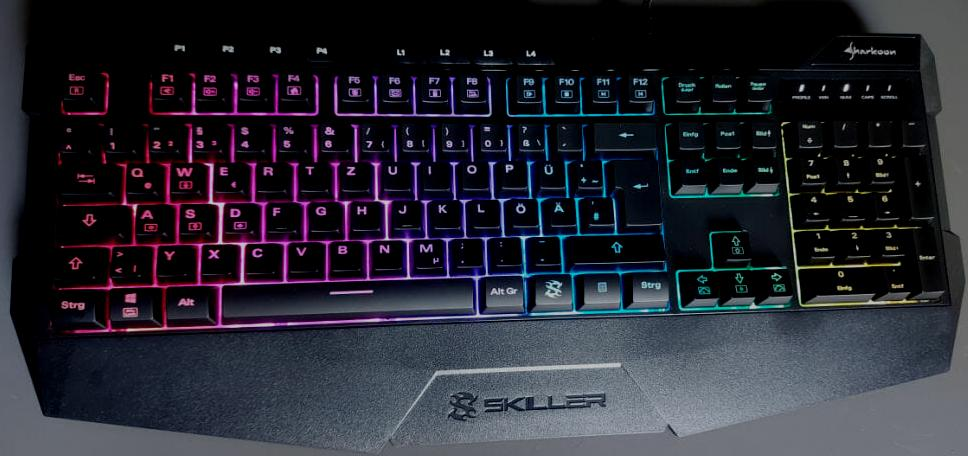0: (474, 118, 506, 152)
1: (98, 118, 134, 151)
2: (144, 117, 178, 154)
3: (187, 116, 221, 154)
4: (230, 116, 263, 152)
5: (272, 115, 306, 152)
6: (314, 118, 348, 151)
7: (356, 116, 387, 153)
8: (395, 116, 427, 153)
9: (435, 116, 467, 153)
a: (131, 200, 167, 237)
accent: (552, 117, 580, 150)
ae: (544, 194, 574, 225)
alt-left: (160, 281, 209, 319)
altgr-right: (479, 271, 524, 309)
b: (326, 237, 361, 270)
c: (240, 239, 277, 273)
caret: (55, 118, 88, 150)
comma: (450, 235, 482, 267)
d: (219, 199, 254, 235)
del: (589, 118, 655, 149)
e: (209, 158, 244, 192)
enter: (608, 155, 659, 225)
f: (262, 198, 297, 232)
g: (305, 198, 338, 229)
h: (346, 197, 379, 229)
hash: (581, 193, 612, 226)
i: (418, 158, 449, 188)
j: (388, 196, 420, 228)
k: (428, 196, 459, 227)
keyboard: (27, 27, 960, 342)
l: (467, 196, 498, 226)
less: (106, 241, 144, 278)
m: (408, 235, 443, 268)
minus: (527, 233, 559, 265)
n: (368, 236, 402, 268)
o: (457, 158, 488, 188)
oe: (506, 195, 537, 226)
p: (496, 156, 525, 187)
plus: (572, 156, 600, 189)
point: (489, 233, 520, 265)
q: (122, 159, 159, 196)
r: (252, 158, 286, 190)
s: (174, 200, 210, 236)
shift-left: (49, 243, 98, 279)
shift-lock: (54, 202, 123, 237)
shift-right: (565, 232, 664, 263)
space: (217, 274, 474, 317)
ss: (513, 118, 543, 150)
strg-left: (46, 285, 96, 325)
strg-right: (626, 268, 669, 304)
t: (296, 158, 328, 190)
tab: (55, 159, 112, 193)
u: (378, 158, 411, 189)
ue: (534, 156, 564, 188)
v: (284, 238, 319, 271)
w: (166, 159, 202, 194)
x: (197, 240, 233, 274)
y: (153, 241, 187, 274)
z: (337, 158, 368, 189)
